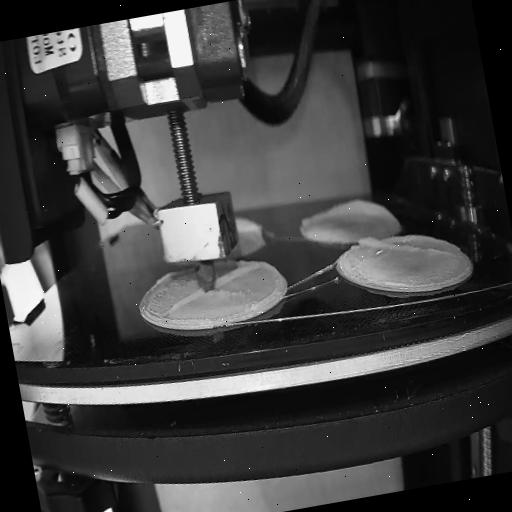over_extrusion: (356, 217, 453, 271), (298, 188, 396, 234), (212, 256, 262, 290), (161, 285, 207, 318), (232, 208, 265, 238)
